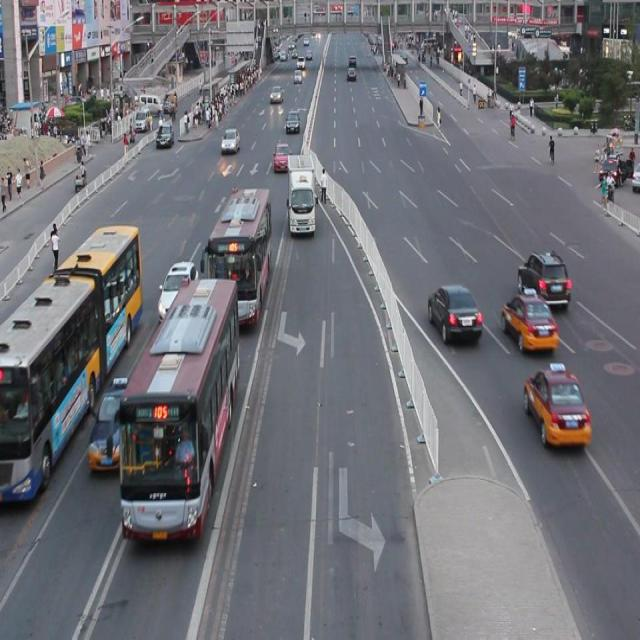bus: (286, 153, 316, 233)
car: (522, 358, 588, 448), (88, 380, 140, 472), (501, 289, 556, 350), (516, 249, 570, 307), (426, 283, 481, 339), (157, 262, 198, 321), (272, 143, 291, 169), (220, 129, 239, 151)
van: (1, 228, 143, 502), (116, 274, 238, 539), (201, 187, 270, 326)
